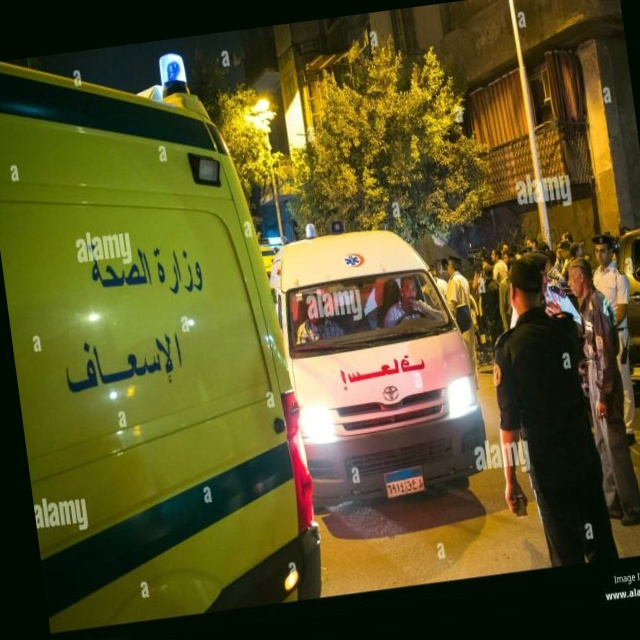Ambulance: (0, 28, 329, 635), (261, 203, 495, 515)
person: (474, 248, 619, 573), (563, 253, 640, 529), (586, 231, 640, 448), (441, 253, 484, 392), (378, 272, 445, 329), (290, 289, 346, 344)
